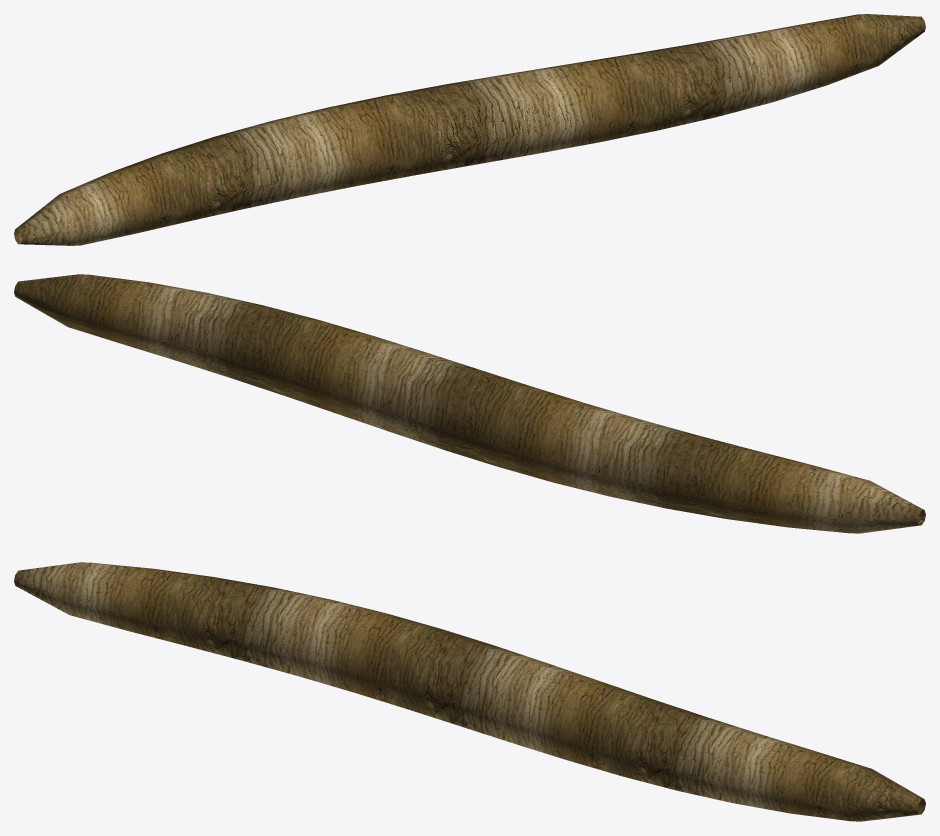
The picture shows the model from 3 angles, top to bottom: view 1: azimuth 30°, elevation 25°; view 2: azimuth 150°, elevation 25°; view 3: azimuth 330°, elevation 25°; orthographic projection.
Visible parts, largest first — view 1: V2 / root source; view 2: V2 / root source; view 3: V2 / root source.
Boxes of the visible parts, <box> form: V2 / root source: <box>14,14,925,245</box>; V2 / root source: <box>14,274,925,533</box>; V2 / root source: <box>14,562,925,821</box>.
Size of the model in its own units: 1 by 0.0859 by 0.1266.
Materials: 1 (1 with a texture image).
